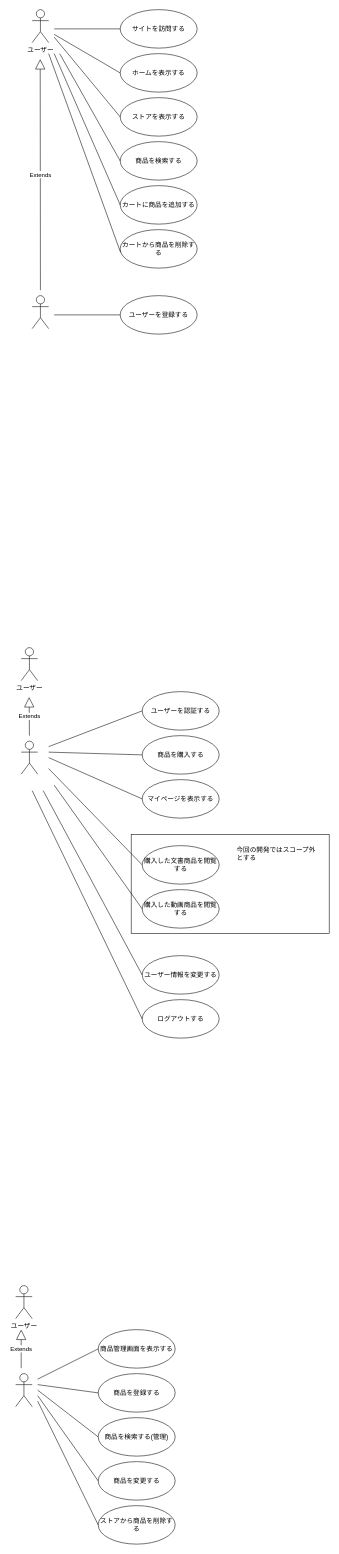
Some shapes in this 339 by 1554 pixel diagram are drawn without their labels. Here are the shapes that lost their labels. From the top down, the centre of each, then its label:
At (x=40, y=312): "新規ユーザー".
At (x=29, y=757): "登録ユーザー".
At (x=23, y=1390): "管理者".
